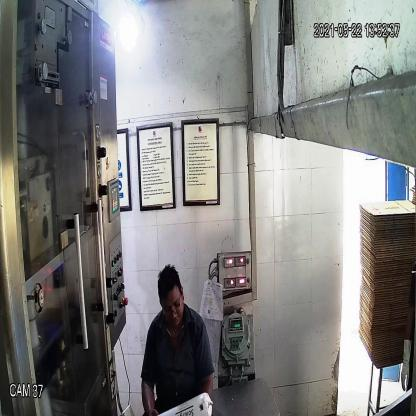goggles: (160, 297, 184, 322)
